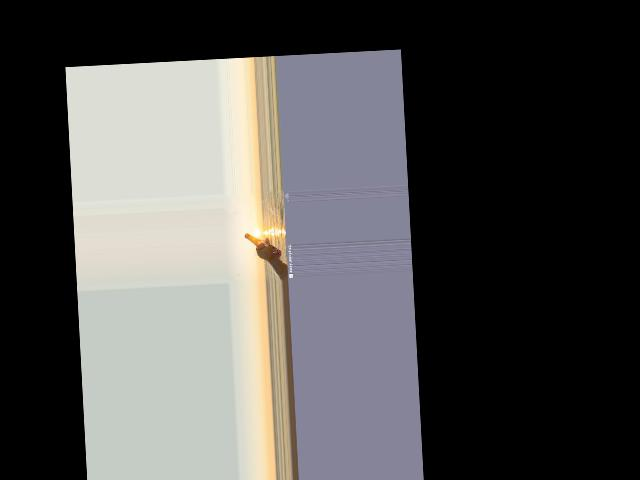beer: (243, 231, 281, 260)
